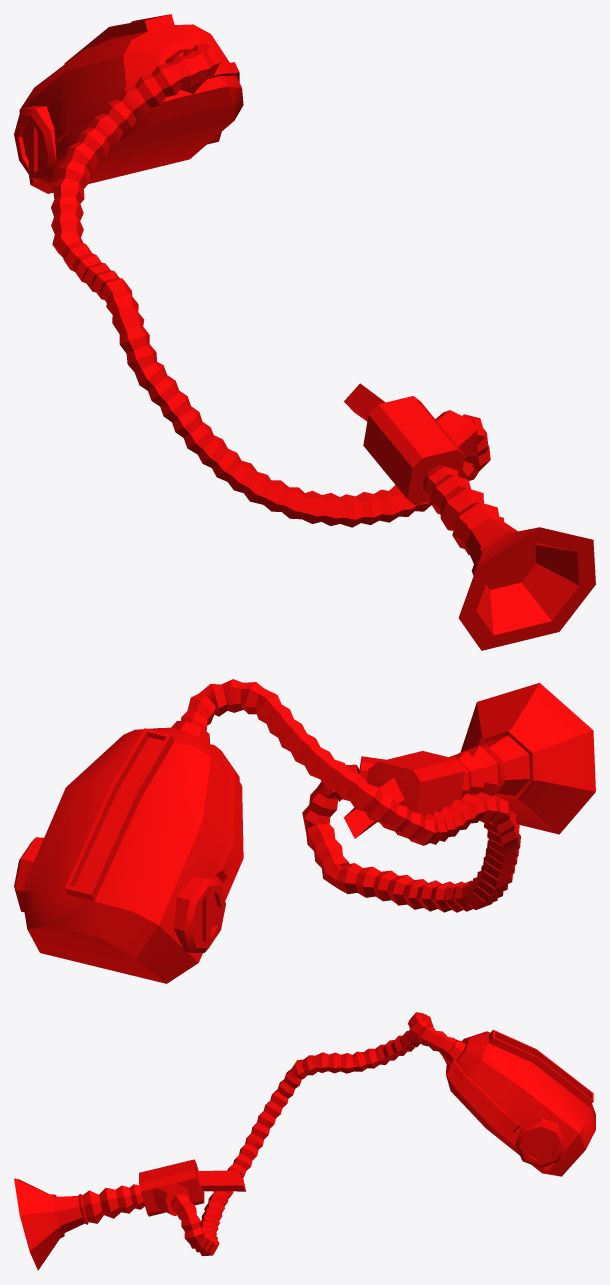
Rendered from Odkurzacz.fbx.
3 views of the same model, one above another, from view 1: azimuth 30°, elevation 25°; view 2: azimuth 150°, elevation 25°; view 3: azimuth 270°, elevation 25° (orthographic). The views are drawn at different scales.
Parts seen in each view (by area): view 1: Odkurzacz_LP; view 2: Odkurzacz_LP; view 3: Odkurzacz_LP.
Boxes of the visible parts, x1,y1,x2,y2 form: Odkurzacz_LP: (14,14,595,650); Odkurzacz_LP: (14,679,595,983); Odkurzacz_LP: (14,1012,595,1270).
Size of the model in its own units: 1.38 by 1.69 by 3.81.
